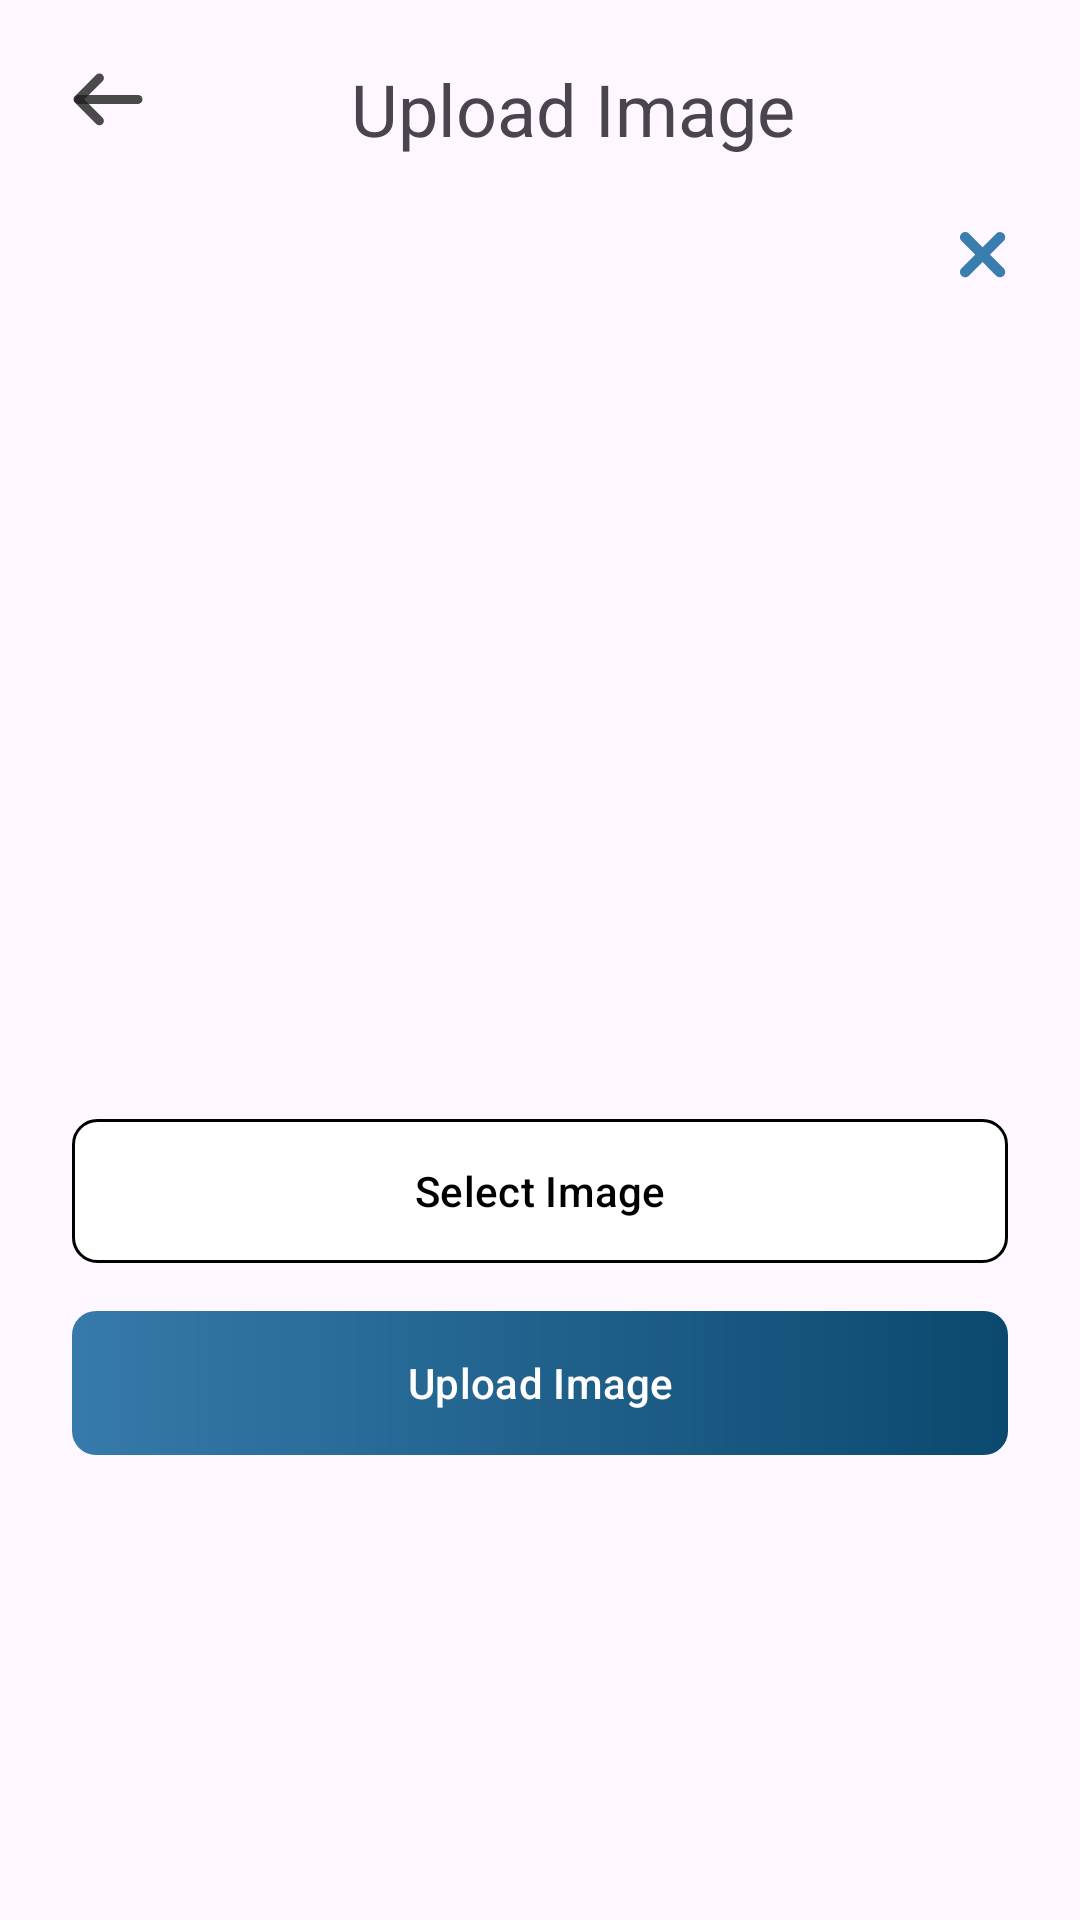

Screen size 1080×1920. Icon name, then its center in pixels as point (x, y):
upload back: point (108, 99)
uploadcross: point (983, 255)
